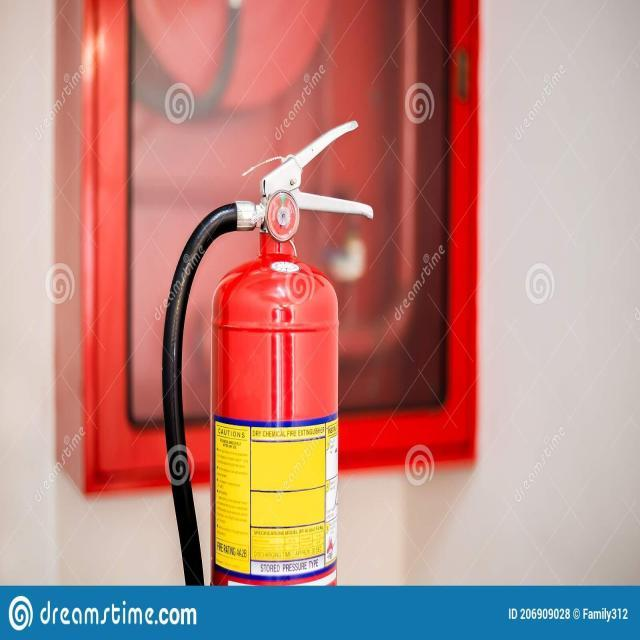FireExtinguisher: (160, 116, 376, 586)
